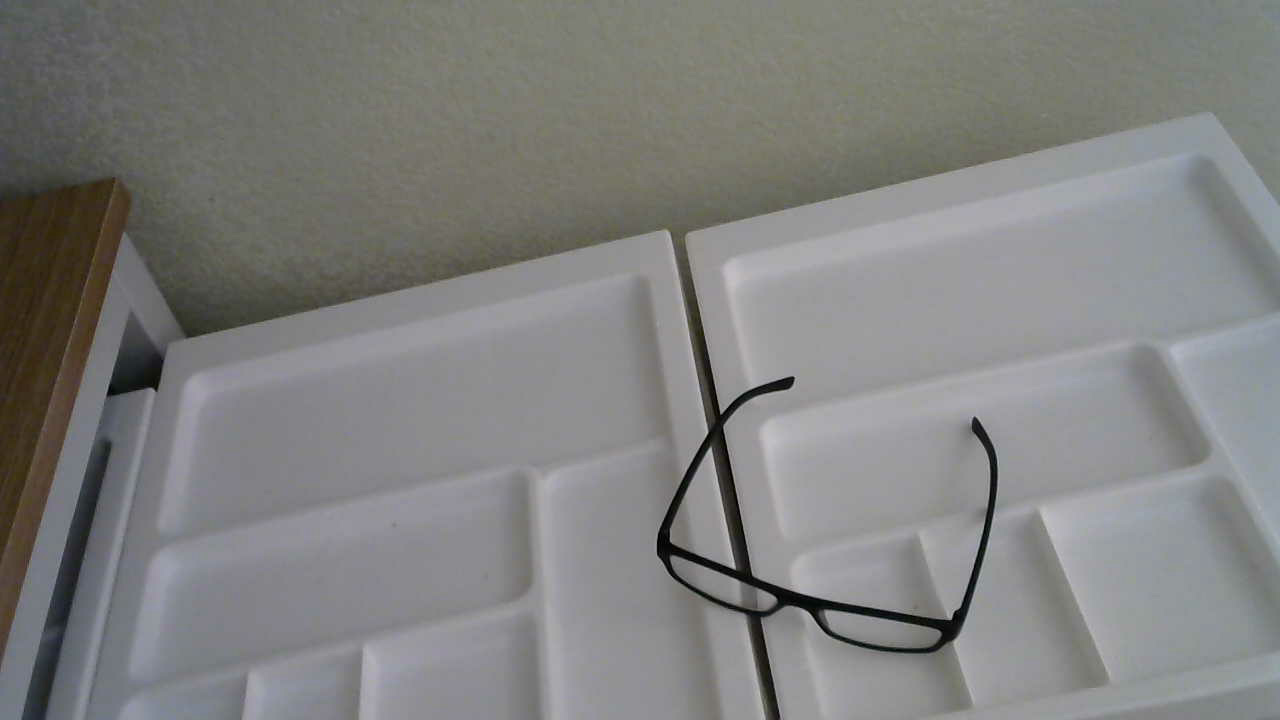Glasses: (607, 339, 1018, 657)
